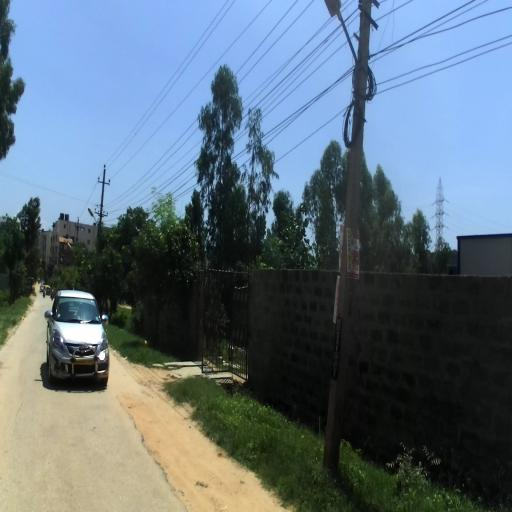street_light_0: (88, 208, 102, 239), (68, 242, 75, 256)
